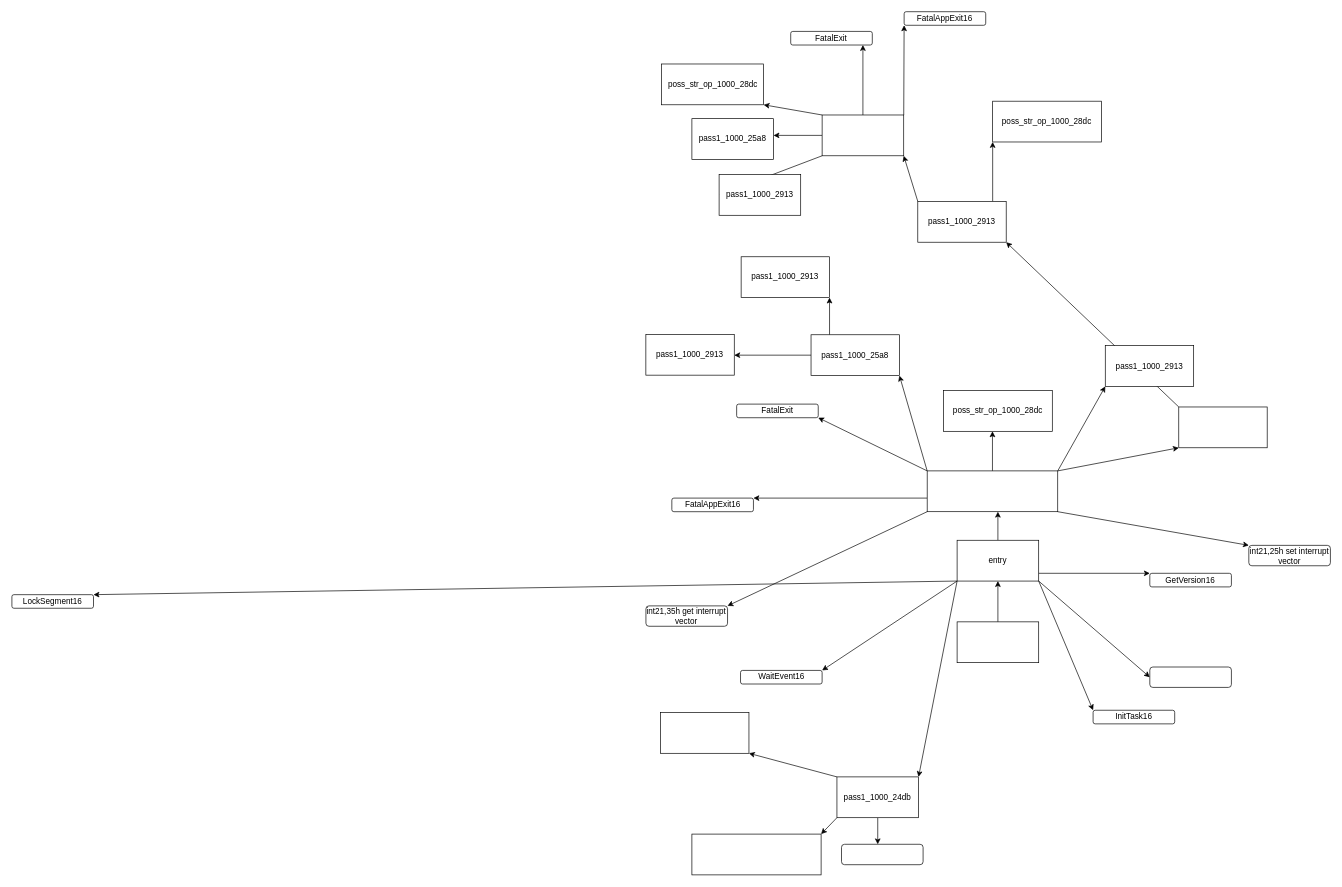
Image size: 1342x887. Some labels were removed from this diagram. Here are the shapes that lost their labels. From the top down, the box of each, then its label:
(821, 114, 904, 156): pass1_1000_55b1
(1178, 406, 1267, 448): pass1_1000_29dc
(927, 470, 1058, 512): interrupt_vector_op_1000_23ea
(956, 621, 1039, 663): main
(1149, 666, 1231, 687): int21,30h get dos vers info
(660, 712, 749, 753): fn_ptr_op_1000_2594
(691, 833, 821, 875): set_interrupt_vector_1000_256b
(841, 844, 923, 865): int21,45h duplicate file handle
